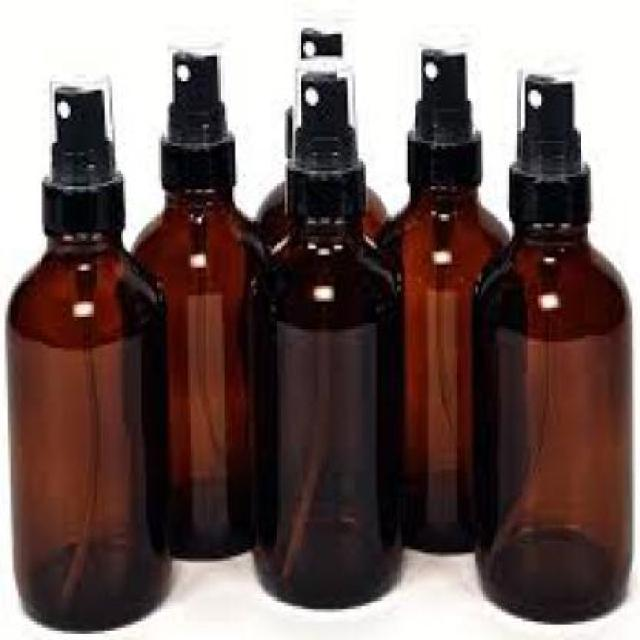kaca: (4, 226, 168, 631), (468, 220, 632, 622), (246, 214, 400, 606), (128, 186, 258, 560), (374, 186, 506, 554), (248, 164, 384, 256)
